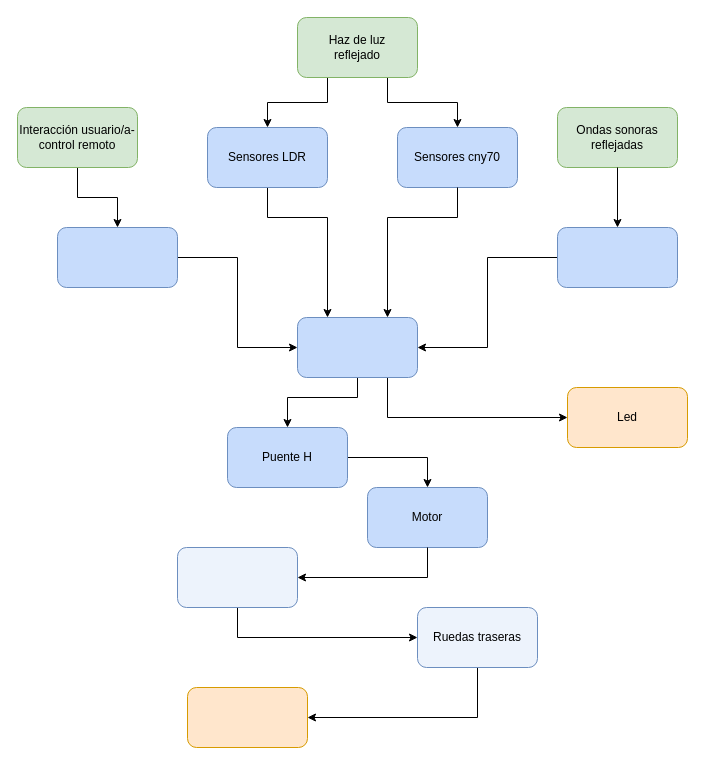
The diagram is 705 pixels wide and 765 high, and some of its shapes have lost their labels. Each missing label, with the centre of its shape:
Avance: pixel 247 717
Placa controladora (DuinoBot): pixel 357 347
Reducción: pixel 237 577
Sensor de control remoto: pixel 117 257
Sensor de ultrasonido: pixel 617 257
